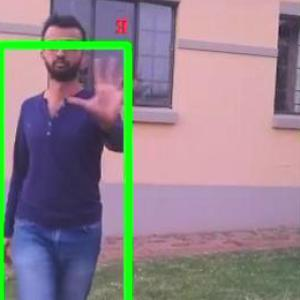follow_hand: (65, 53, 137, 125)
